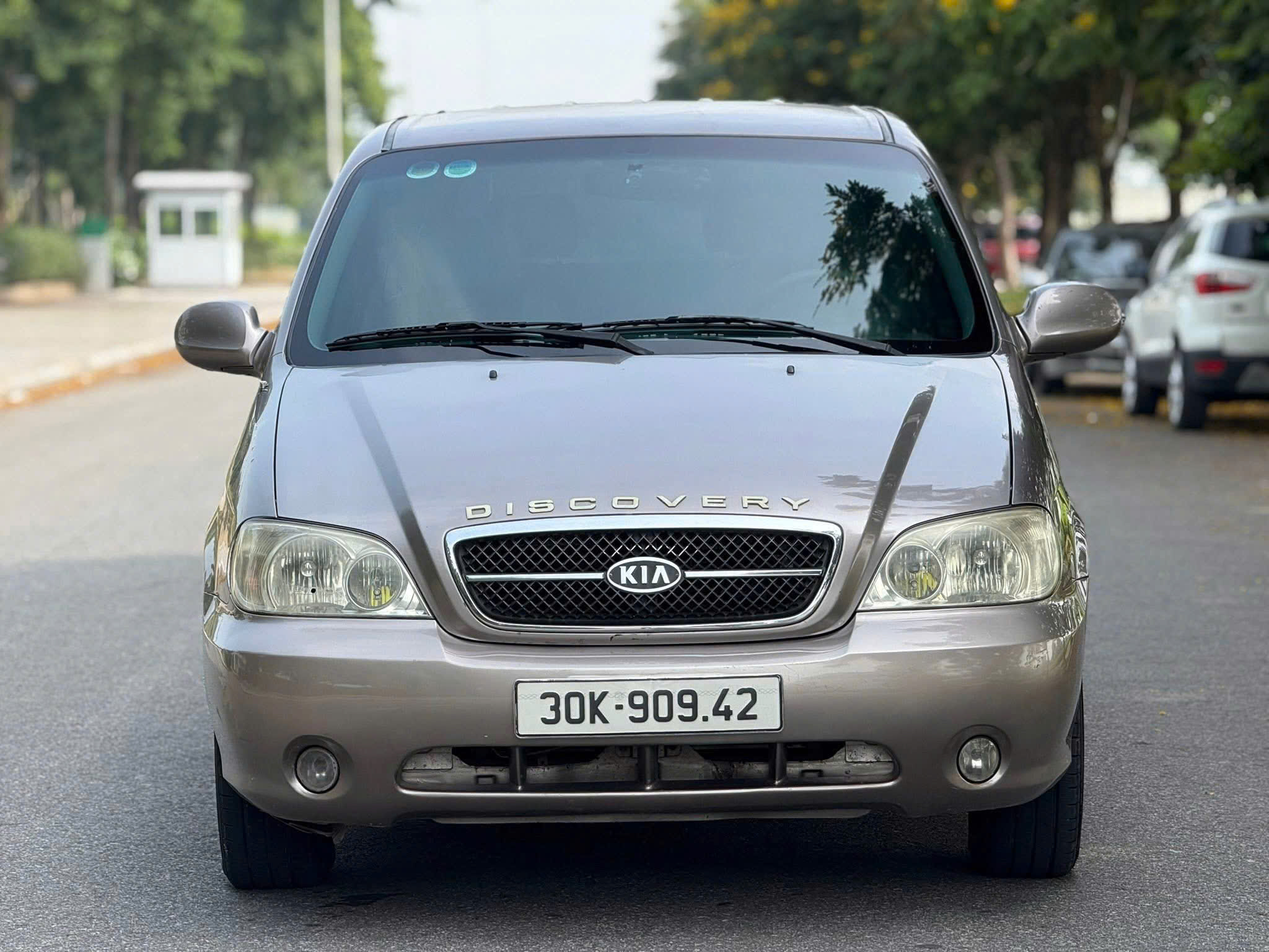Bien-so: (520, 675, 786, 732)
